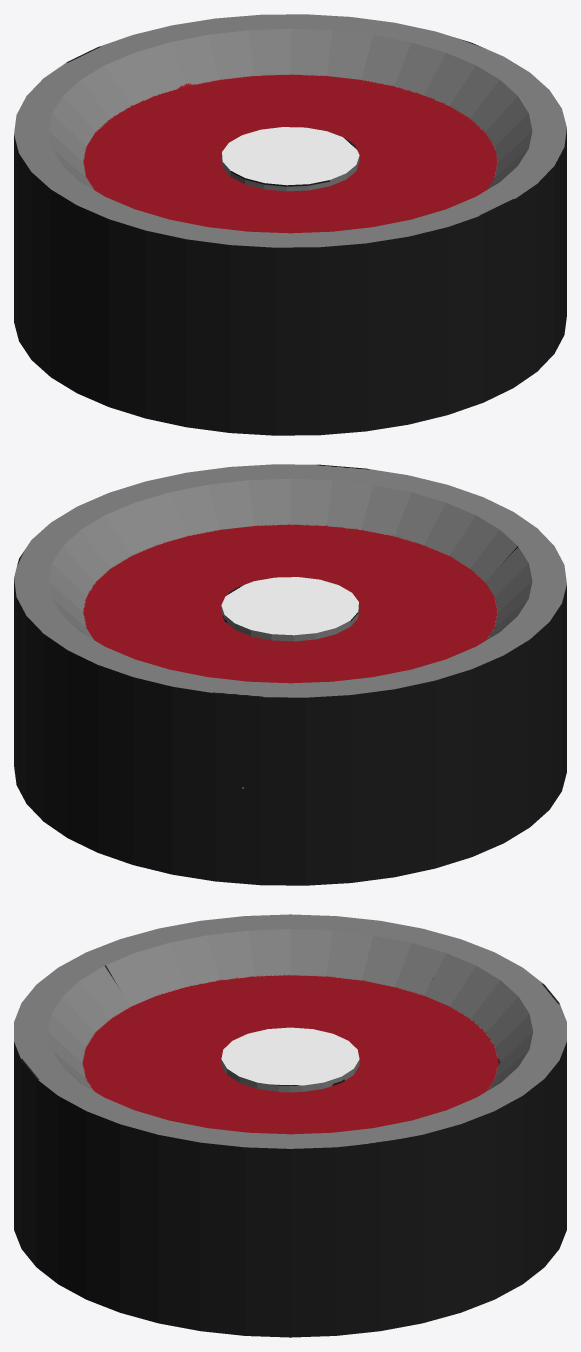
File: left_front_wheel.dae
The picture shows the model from 3 angles, top to bottom: view 1: azimuth 30°, elevation 25°; view 2: azimuth 150°, elevation 25°; view 3: azimuth 270°, elevation 25°; orthographic projection.
Parts seen in each view (by area): view 1: left_front_wheel; view 2: left_front_wheel; view 3: left_front_wheel.
Boxes of the visible parts, x1,y1,x2,y2 form: left_front_wheel: (14,14,566,435); left_front_wheel: (14,464,566,885); left_front_wheel: (14,914,566,1337).
Size of the model in its own units: 0.2032 by 0.2025 by 0.0762.
1 material, 1 textured.
